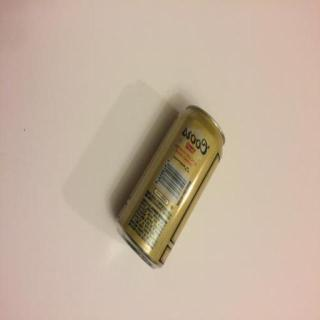Anorganik: (114, 104, 228, 274)
